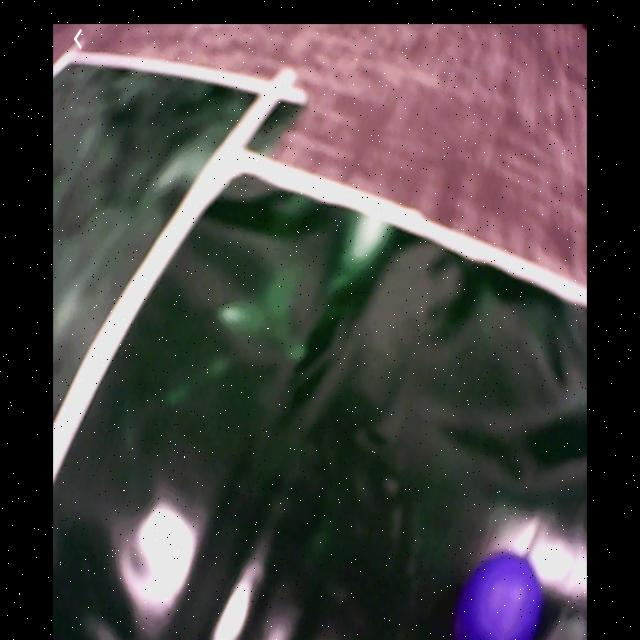ball: (453, 554, 542, 640)
